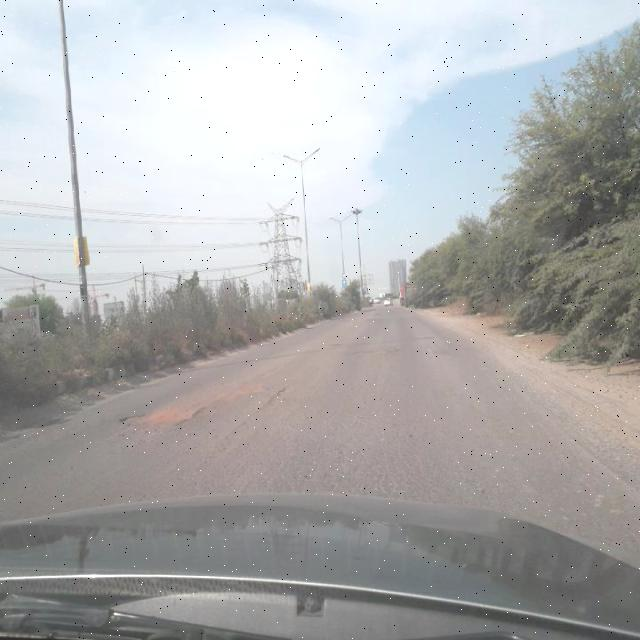D00: (208, 368, 300, 451)
D20: (174, 392, 538, 513)
D40: (116, 386, 202, 431), (226, 378, 270, 401)
